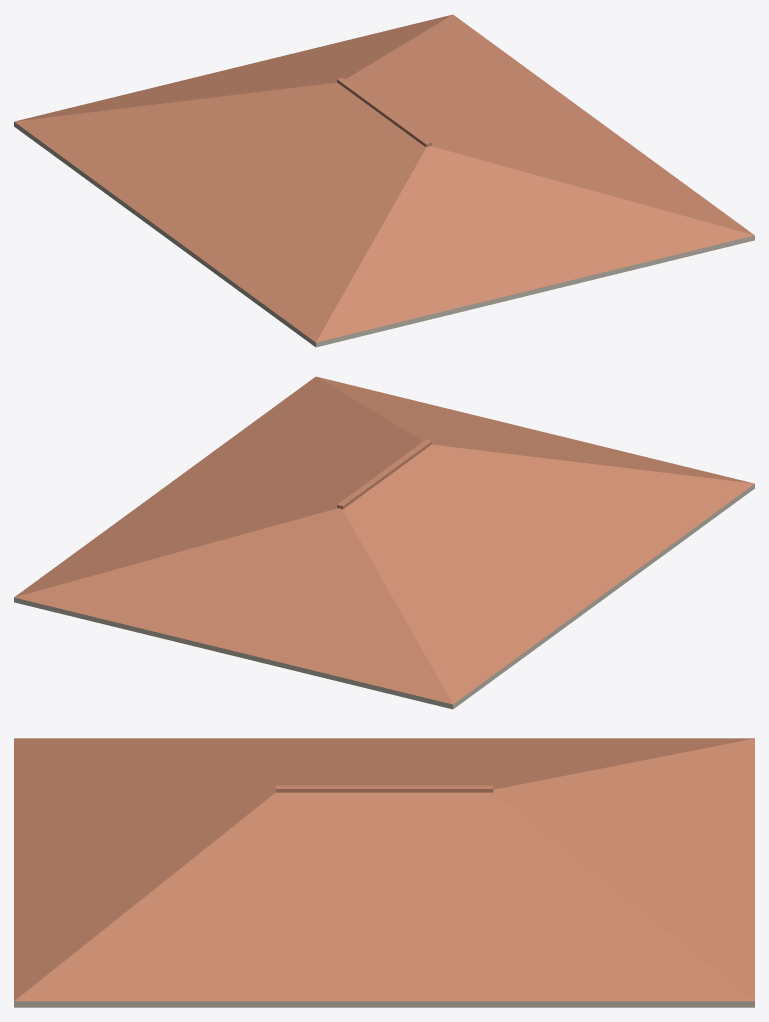
Rendered from SM_Roof_HipTile.fbx.
3 renders of one model, top to bottom at view 1: azimuth 30°, elevation 25°; view 2: azimuth 150°, elevation 25°; view 3: azimuth 270°, elevation 25°, orthographic. The views are drawn at different scales.
Visible parts, largest first — view 1: SM_Roof_HipTile; view 2: SM_Roof_HipTile; view 3: SM_Roof_HipTile.
Boxes of the visible parts, <box> form: SM_Roof_HipTile: <box>14,14,754,347</box>; SM_Roof_HipTile: <box>14,376,754,709</box>; SM_Roof_HipTile: <box>14,738,754,1007</box>.
Bounding box in the file's own units: 1310 × 213 × 1560.
